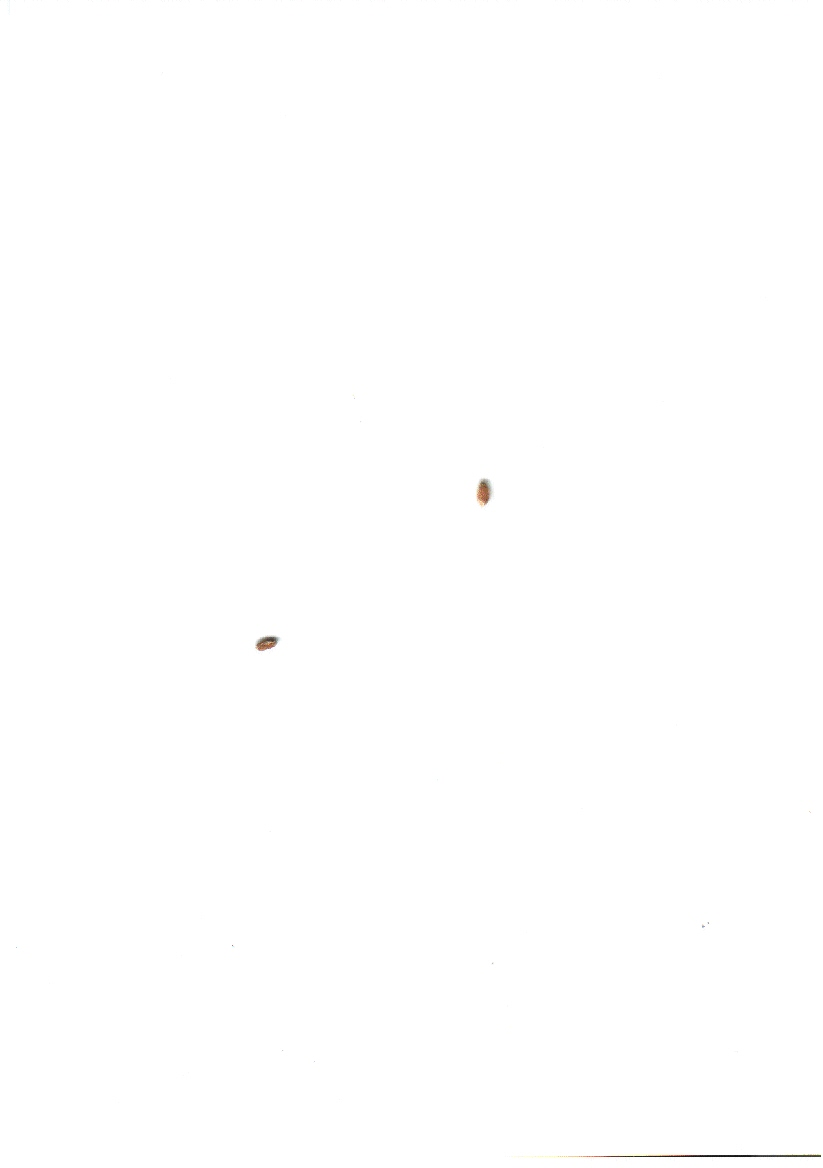grains: (460, 469, 506, 517), (247, 621, 289, 667)
